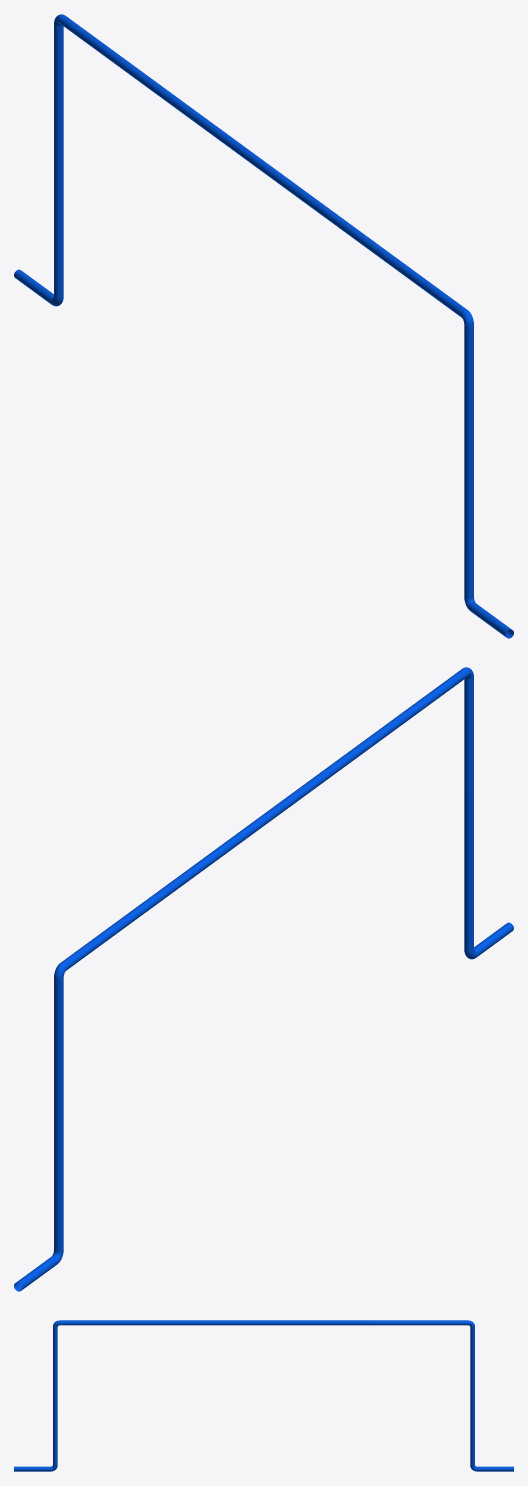
File: Rope_jump.glb
3 views of the same model, one above another, from view 1: azimuth 30°, elevation 25°; view 2: azimuth 150°, elevation 25°; view 3: azimuth 270°, elevation 25° (orthographic). The views are drawn at different scales.
Visible parts, largest first — view 1: Plane; view 2: Plane; view 3: Plane.
Boxes of the visible parts, <box> form: Plane: <box>14,14,513,638</box>; Plane: <box>14,667,513,1291</box>; Plane: <box>14,1320,513,1471</box>.
Bounding box in the file's own units: 0.12 × 4.02 × 12.1.
